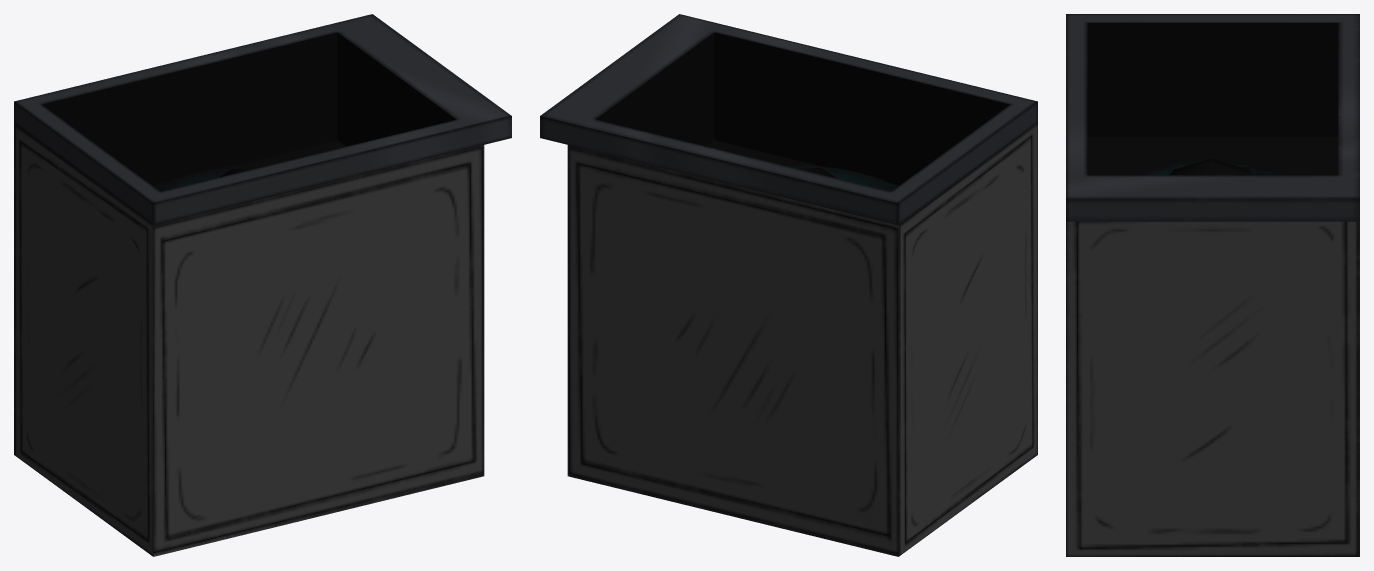
The model's file is Station_Trash.fbx.
3 renders of one model, left to right at view 1: azimuth 30°, elevation 25°; view 2: azimuth 150°, elevation 25°; view 3: azimuth 270°, elevation 25°, orthographic. The views are drawn at different scales.
Visible parts, largest first — view 1: Trash_Can, Trash_Disc; view 2: Trash_Can, Trash_Disc; view 3: Trash_Can, Trash_Disc.
Part boxes in pixels (left/top/right/bottom): Trash_Can: left=14, top=14, right=511, bottom=556; Trash_Disc: left=156, top=166, right=262, bottom=191; Trash_Can: left=540, top=14, right=1037, bottom=556; Trash_Disc: left=788, top=166, right=896, bottom=191; Trash_Can: left=1066, top=14, right=1359, bottom=556; Trash_Disc: left=1122, top=159, right=1301, bottom=175.
Size of the model in its own units: 19.31 by 18.2 by 13.
